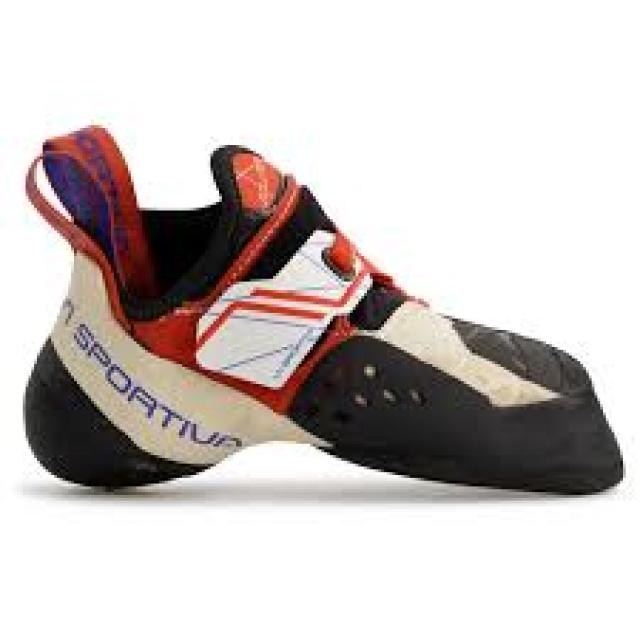climbing-shoes: (20, 119, 630, 498)
